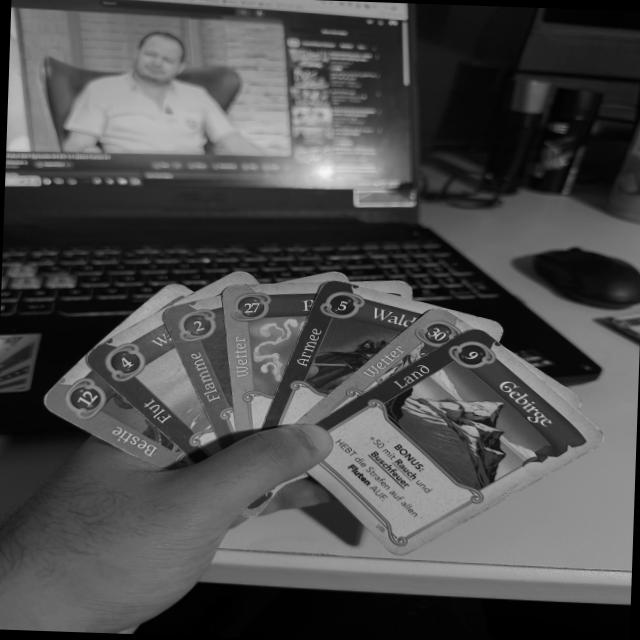Blizzard: (295, 304, 473, 422)
Candle: (161, 295, 237, 448)
Hydra: (38, 358, 195, 472)
Mountain: (309, 326, 608, 557)
Rangers: (259, 278, 429, 430)
Smoke: (217, 282, 320, 442)
Water Elemental: (82, 310, 224, 462)
